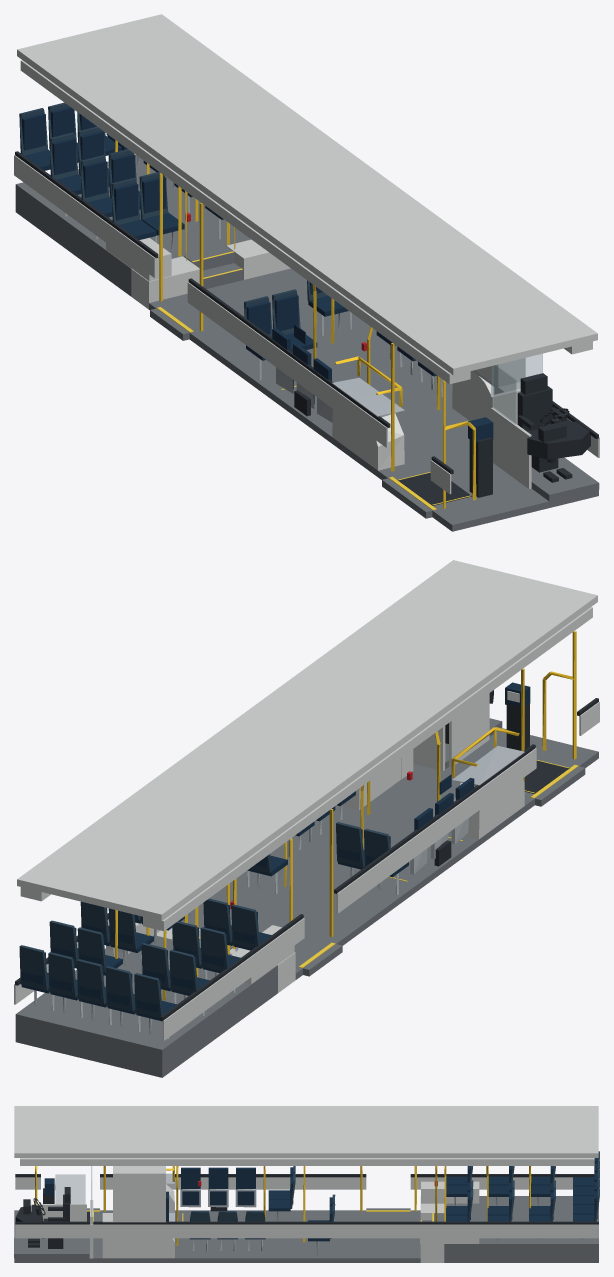
The model's file is city-bus-12m-interior-v2-runtime.lod1.glb.
3 views of the same model, one above another, from view 1: azimuth 30°, elevation 25°; view 2: azimuth 150°, elevation 25°; view 3: azimuth 270°, elevation 25° (orthographic). The views are drawn at different scales.
Parts seen in each view (by area): view 1: interior-batch-panel, interior-batch-floor, interior-batch-seat, interior-batch-rubber, interior-batch-rail, interior-batch-seat-shell, interior-batch-metal, interior-batch-glass; view 2: interior-batch-panel, interior-batch-floor, interior-batch-seat-shell, interior-batch-seat, interior-batch-rubber, interior-batch-rail, interior-batch-metal; view 3: interior-batch-panel, interior-batch-floor, interior-batch-seat, interior-batch-rubber, interior-batch-rail, interior-batch-seat-shell, interior-batch-metal, interior-batch-glass.
Boxes of the visible parts, bbox=[...] form: interior-batch-panel: bbox=[14, 14, 599, 494]; interior-batch-floor: bbox=[15, 155, 599, 531]; interior-batch-seat: bbox=[22, 106, 493, 443]; interior-batch-rubber: bbox=[15, 151, 598, 505]; interior-batch-rail: bbox=[115, 140, 476, 508]; interior-batch-seat-shell: bbox=[19, 102, 327, 336]; interior-batch-metal: bbox=[35, 156, 496, 422]; interior-batch-glass: bbox=[491, 354, 542, 424]; interior-batch-panel: bbox=[14, 560, 599, 1040]; interior-batch-floor: bbox=[15, 718, 598, 1077]; interior-batch-seat-shell: bbox=[19, 822, 390, 1018]; interior-batch-seat: bbox=[21, 682, 530, 1021]; interior-batch-rubber: bbox=[15, 690, 598, 1020]; interior-batch-rail: bbox=[115, 631, 576, 1000]; interior-batch-metal: bbox=[34, 745, 524, 1039]; interior-batch-panel: bbox=[14, 1106, 598, 1262]; interior-batch-floor: bbox=[14, 1196, 598, 1262]; interior-batch-seat: bbox=[44, 1158, 597, 1241]; interior-batch-rubber: bbox=[15, 1174, 598, 1248]; interior-batch-rail: bbox=[35, 1166, 531, 1246]; interior-batch-seat-shell: bbox=[190, 1151, 599, 1238]; interior-batch-metal: bbox=[166, 1173, 582, 1256]; interior-batch-glass: bbox=[55, 1166, 91, 1215].
Size of the model in its own units: 2.43 by 2.44 by 11.88.
